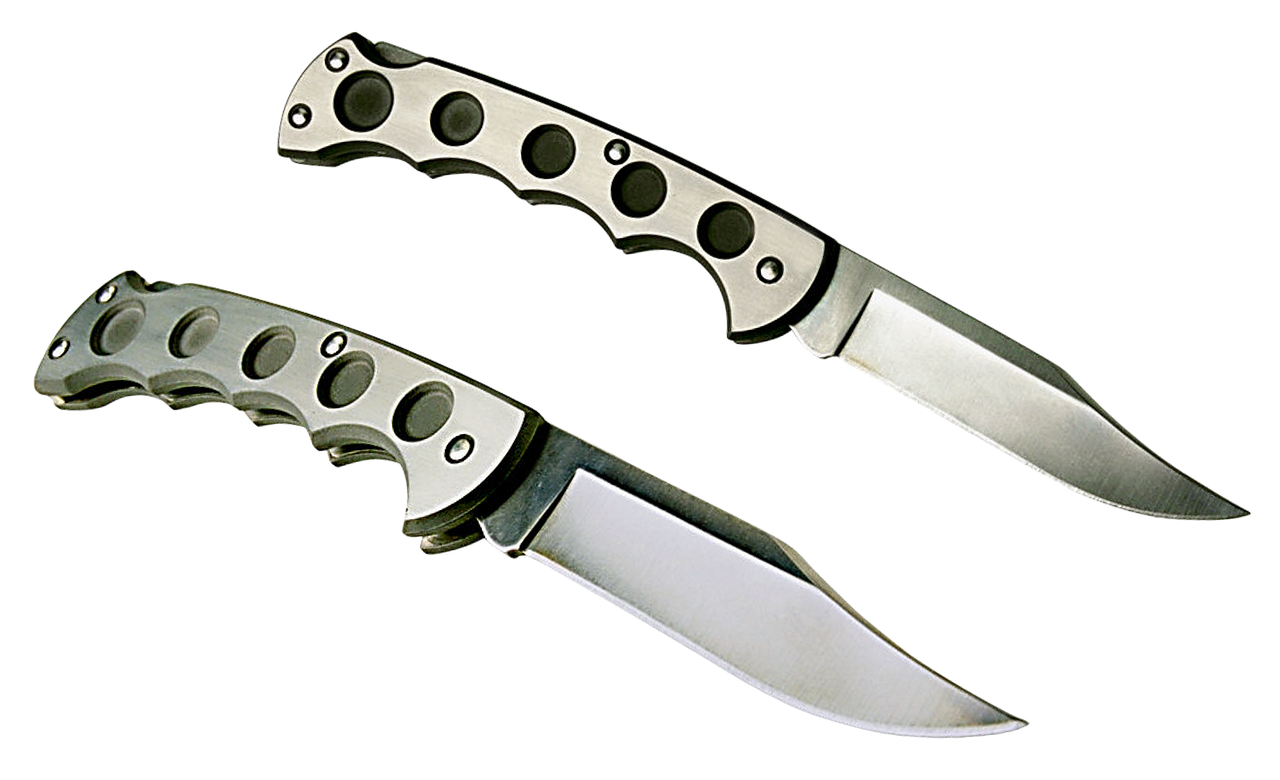knife: (268, 24, 1257, 529), (31, 259, 1038, 748)
